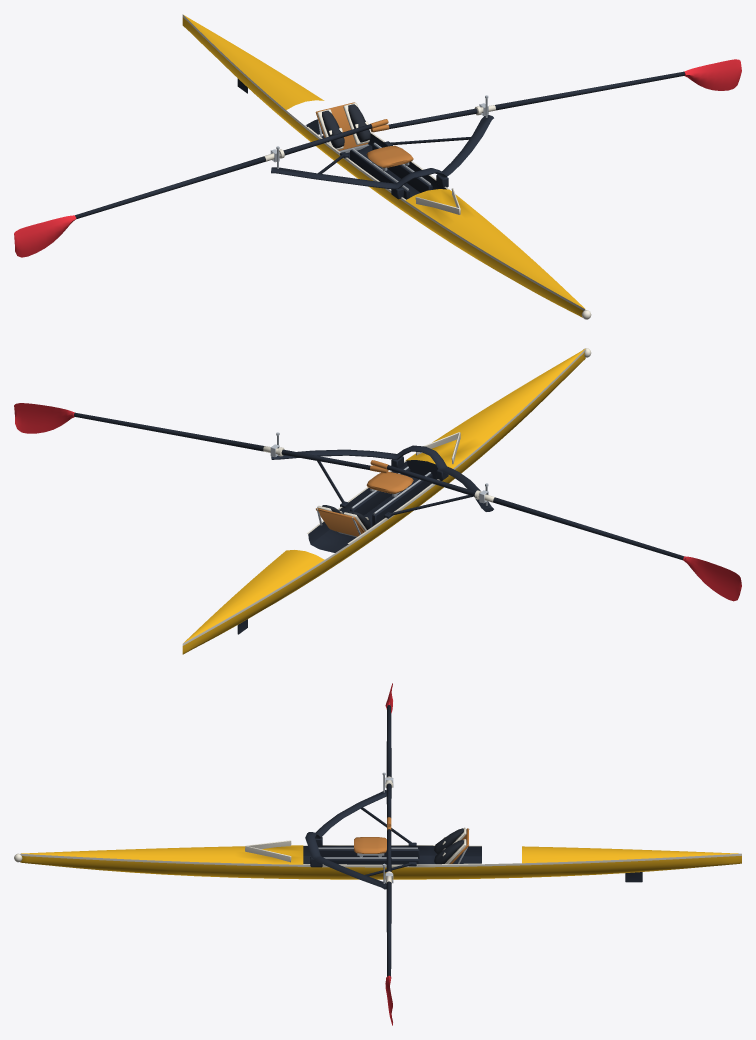
File: scull.glb
3 renders of one model, top to bottom at view 1: azimuth 30°, elevation 25°; view 2: azimuth 150°, elevation 25°; view 3: azimuth 270°, elevation 25°, orthographic. The views are drawn at different scales.
Parts seen in each view (by area): view 1: Scull Shell paint, Scull Carbon, Left oar Carbon, Right oar Carbon, Left oar Blade paint, Scull Varnished wood, Right oar Blade paint, Scull Trim, Scull Rubber, Scull Steel; view 2: Scull Shell paint, Scull Carbon, Left oar Carbon, Right oar Carbon, Scull Varnished wood, Right oar Blade paint, Left oar Blade paint, Scull Trim, Scull Steel; view 3: Scull Shell paint, Scull Carbon, Scull Trim, Right oar Carbon, Scull Varnished wood, Scull Rubber, Left oar Carbon, Scull Steel.
Part boxes in pixels (bbox=[...]): Scull Shell paint: bbox=[182, 14, 585, 317]; Scull Carbon: bbox=[237, 78, 493, 199]; Left oar Carbon: bbox=[75, 124, 372, 218]; Right oar Carbon: bbox=[388, 71, 684, 128]; Left oar Blade paint: bbox=[14, 215, 76, 257]; Scull Varnished wood: bbox=[315, 102, 413, 167]; Right oar Blade paint: bbox=[684, 59, 741, 90]; Scull Trim: bbox=[317, 103, 591, 319]; Scull Rubber: bbox=[322, 104, 370, 148]; Scull Steel: bbox=[276, 95, 488, 190]; Scull Shell paint: bbox=[182, 348, 585, 654]; Scull Carbon: bbox=[237, 445, 493, 634]; Left oar Carbon: bbox=[387, 465, 685, 560]; Right oar Carbon: bbox=[71, 412, 370, 469]; Scull Varnished wood: bbox=[316, 472, 413, 536]; Right oar Blade paint: bbox=[14, 403, 74, 433]; Left oar Blade paint: bbox=[683, 556, 741, 601]; Scull Trim: bbox=[317, 348, 591, 531]; Scull Steel: bbox=[276, 432, 488, 537]; Scull Shell paint: bbox=[20, 845, 741, 879]; Scull Carbon: bbox=[305, 790, 642, 889]; Scull Trim: bbox=[14, 827, 466, 863]; Right oar Carbon: bbox=[386, 829, 391, 977]; Scull Varnished wood: bbox=[354, 828, 468, 863]; Scull Rubber: bbox=[434, 828, 463, 864]; Left oar Carbon: bbox=[386, 704, 391, 817]; Scull Steel: bbox=[318, 772, 469, 883].
Bounding box in the file's own units: 5.57 × 0.5179 × 5.39.
